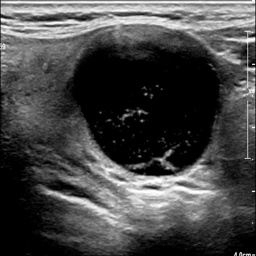mass: (71, 29, 223, 180)
